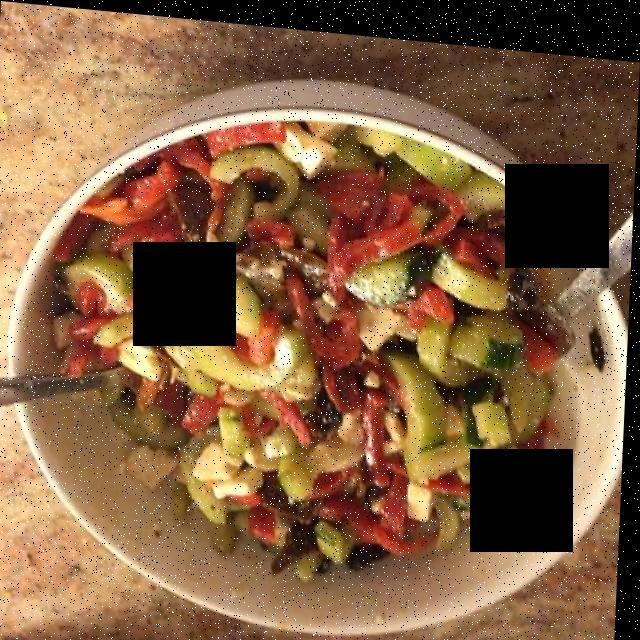salad: (65, 121, 564, 567)
